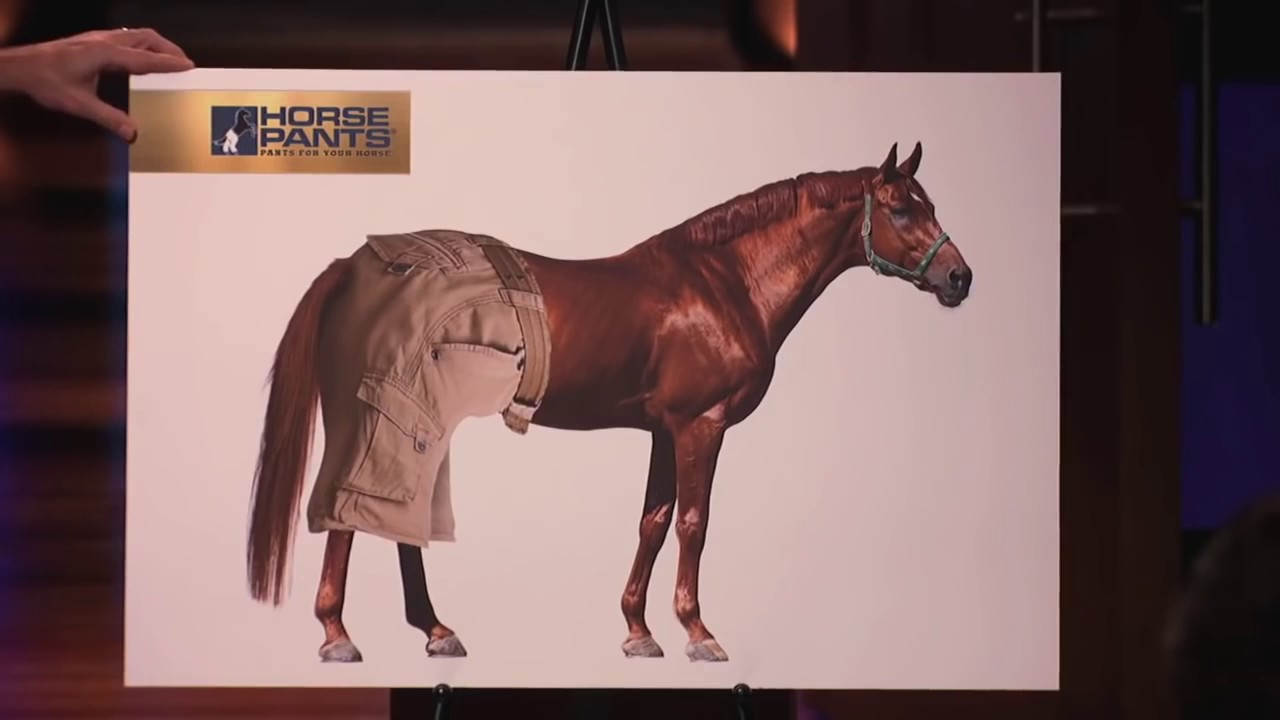Horse: (209, 105, 1025, 718)
